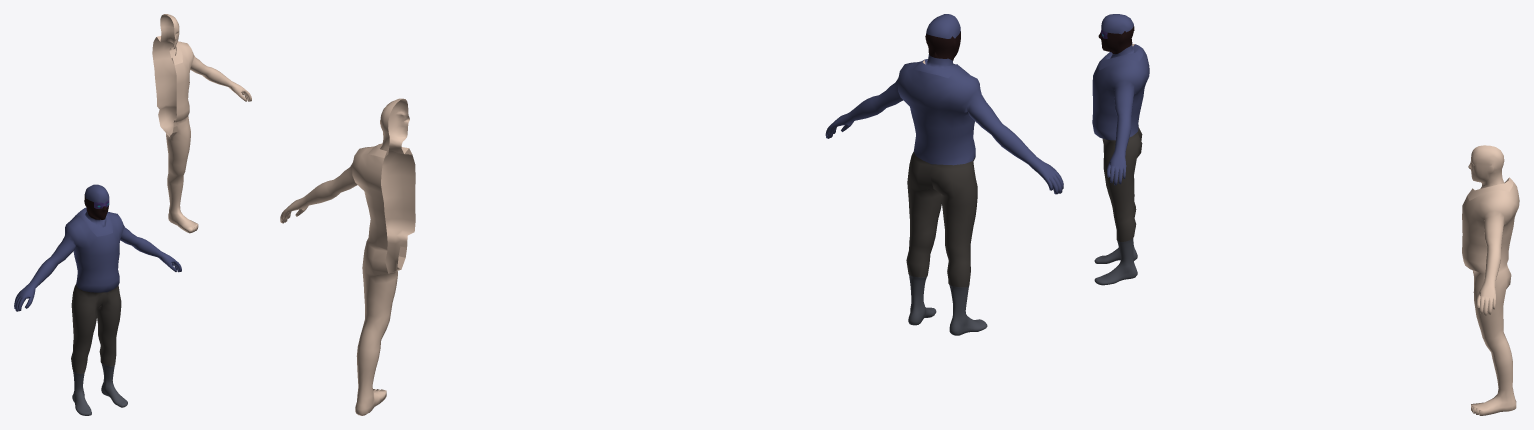
Rendered from Solider.fbx.
3 renders of one model, left to right at view 1: azimuth 30°, elevation 25°; view 2: azimuth 150°, elevation 25°; view 3: azimuth 270°, elevation 25°, orthographic. The views are drawn at different scales.
Parts seen in each view (by area): view 1: polySurface2, man1; view 2: polySurface2, man1; view 3: polySurface2, man1.
Part boxes in pixels (box(x1,y1,x2,y2)): polySurface2: box(14, 184, 181, 415); man1: box(152, 14, 251, 233); polySurface2: box(825, 14, 1063, 335); man1: box(280, 98, 415, 415); polySurface2: box(1092, 14, 1149, 285); man1: box(1462, 145, 1519, 415).
Size of the model in its own units: 17.13 by 9.17 by 13.78.
